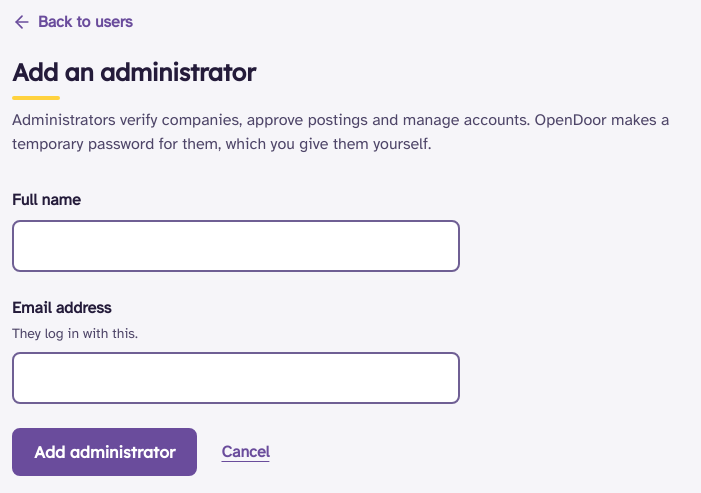
it: AddAdminPage › shows the temporary password once, ready to copy
Step 1. Type "Rosa Lim" into the field labelled "Full name" → point(236, 246), box [12,220,460,272]
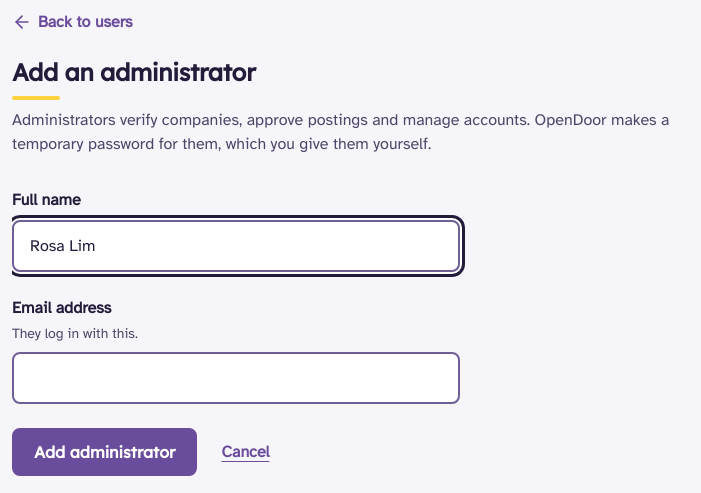
Step 2. Type " Rosa@OpenDoor.test " into the field labelled "Email address" → point(236, 378), box [12,352,460,404]
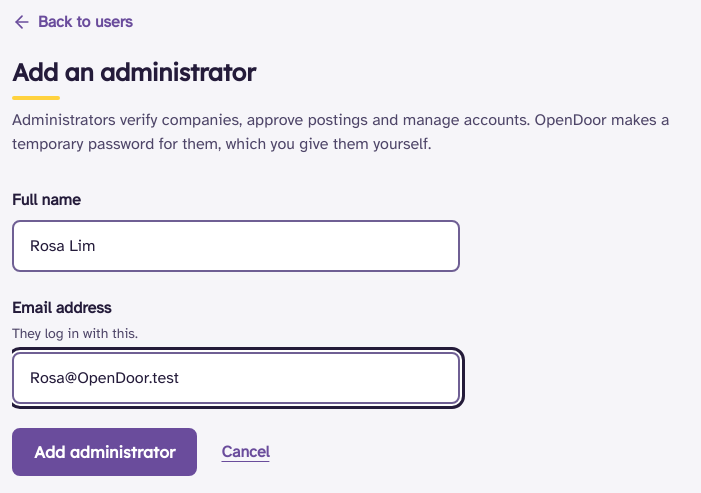
Step 3. Click the button "Add administrator" → point(105, 452), box [12,428,198,476]
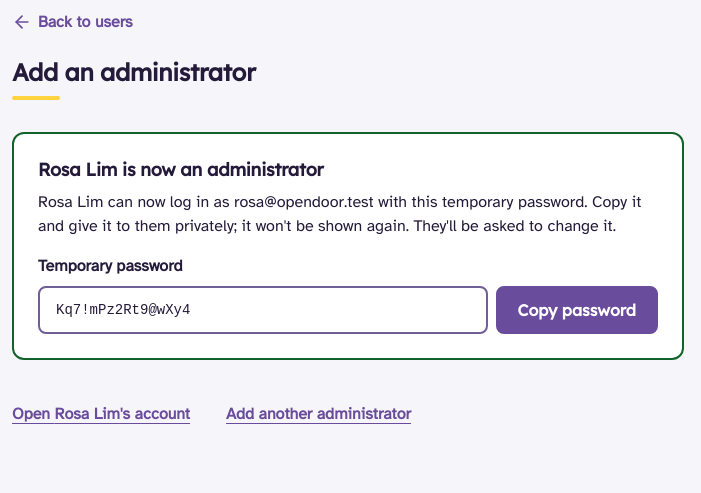
Now the field labelled "Temporary password" holds "Kq7!mPz2Rt9@wXy4", box [38,286,488,334]
Now the button "Copy password" is shown, box [496,286,658,334]
Now the text "it won't be shown again" is shown, box [38,192,641,236]
